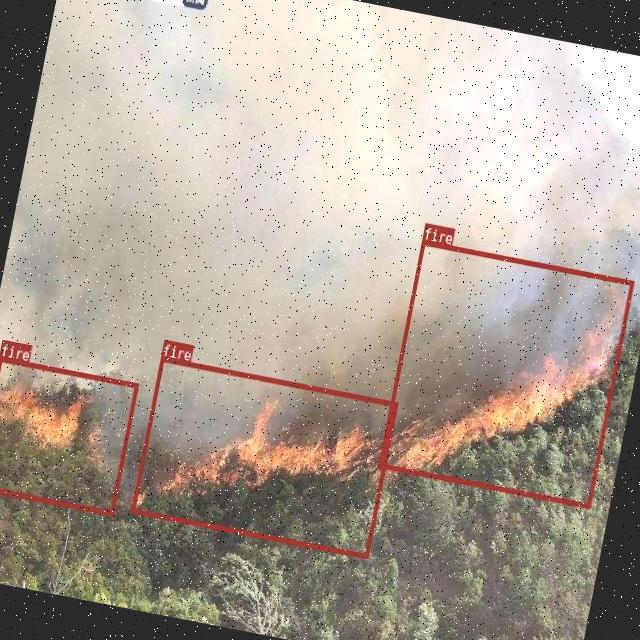fire: (377, 240, 634, 508), (130, 356, 398, 558), (0, 355, 138, 515)
